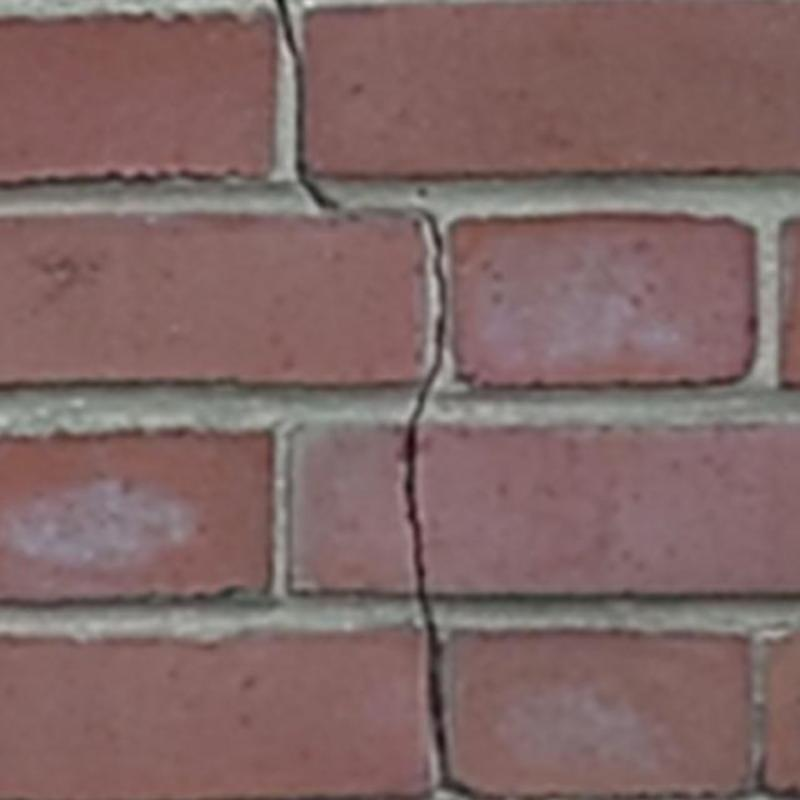pothole: (395, 206, 476, 798), (274, 1, 345, 209)
